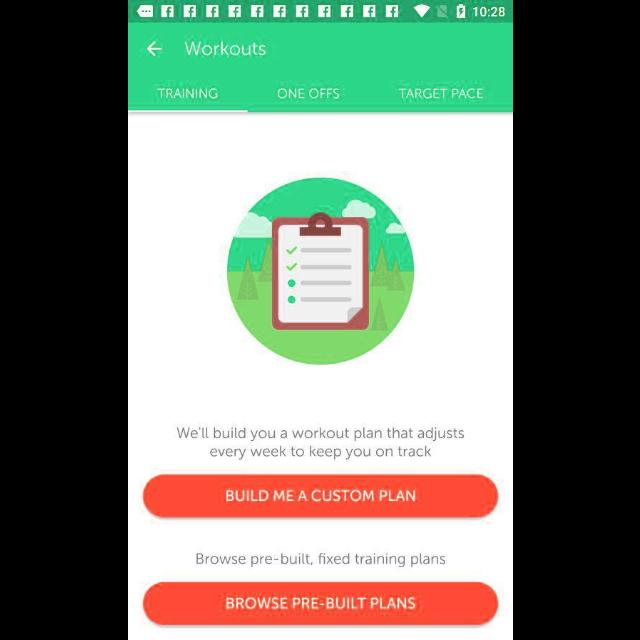icon: (146, 42, 162, 58)
image: (226, 178, 414, 366)
text: (176, 426, 464, 460), (196, 552, 444, 568), (183, 41, 265, 57), (397, 88, 483, 100), (277, 88, 339, 100), (156, 88, 218, 100)
textbutton: (142, 582, 498, 628), (142, 475, 498, 519)
uppertaskbar: (128, 1, 512, 23)
